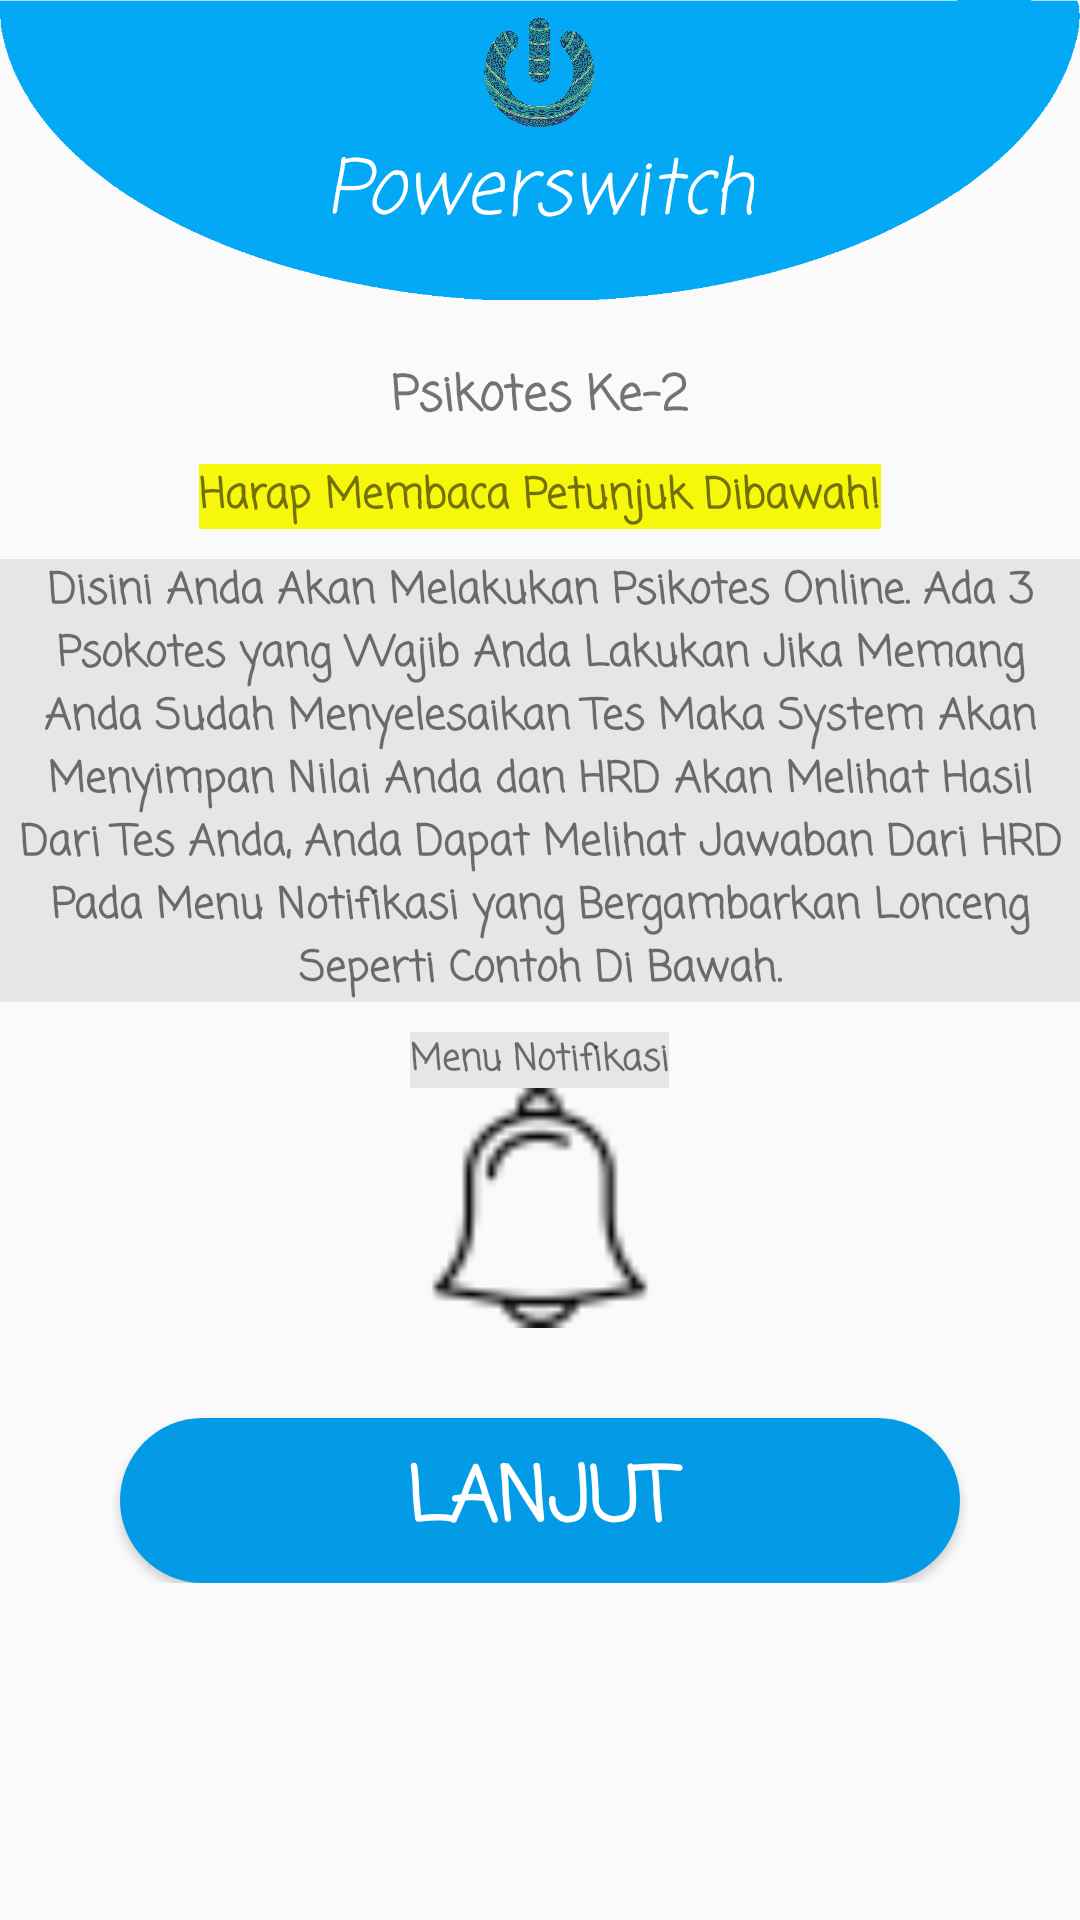

Screen size 1080 × 1920. Icon name, then its center in pixels as [x,y]:
alarm: [540,1208]
